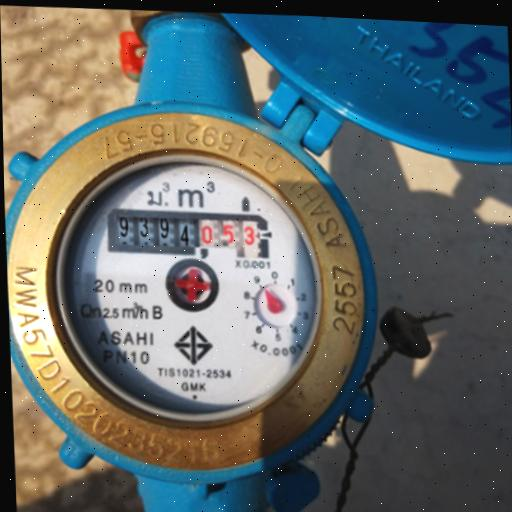0: (199, 219, 216, 248)
3: (242, 219, 259, 259), (137, 216, 152, 247)
4: (177, 218, 192, 249)
5: (220, 219, 237, 249)
9: (117, 216, 132, 247), (158, 217, 173, 248)
border_water_meter_number: (106, 206, 269, 262)
